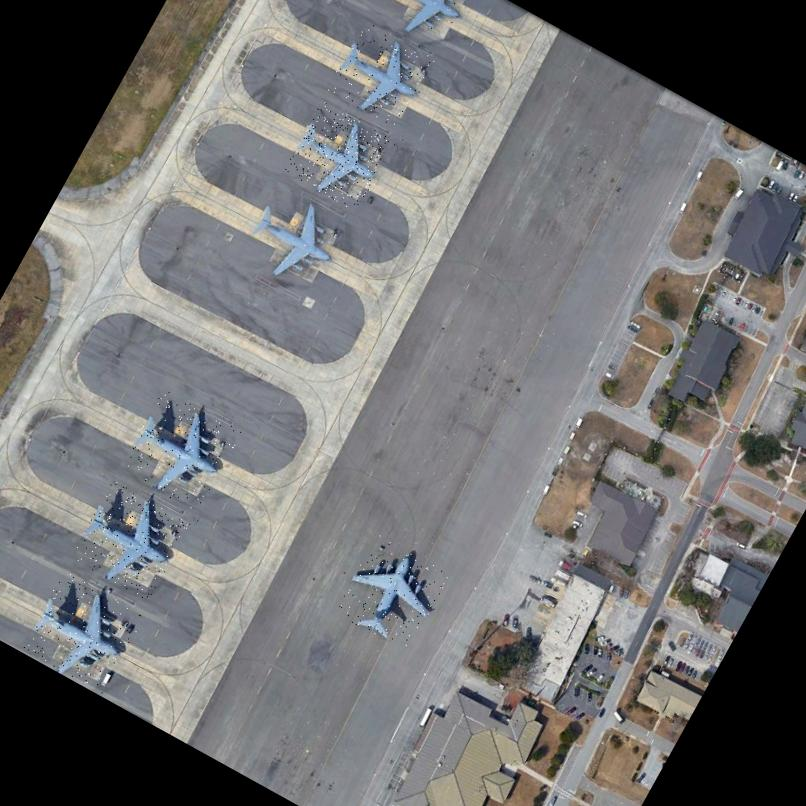A3: (118, 388, 243, 513), (20, 570, 144, 694), (69, 480, 191, 601), (235, 181, 353, 298), (333, 534, 450, 652), (282, 100, 396, 213), (325, 20, 437, 131), (371, 0, 480, 51)
